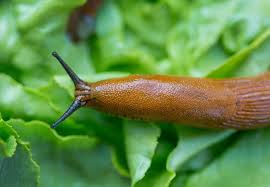slug: (54, 52, 270, 128)
